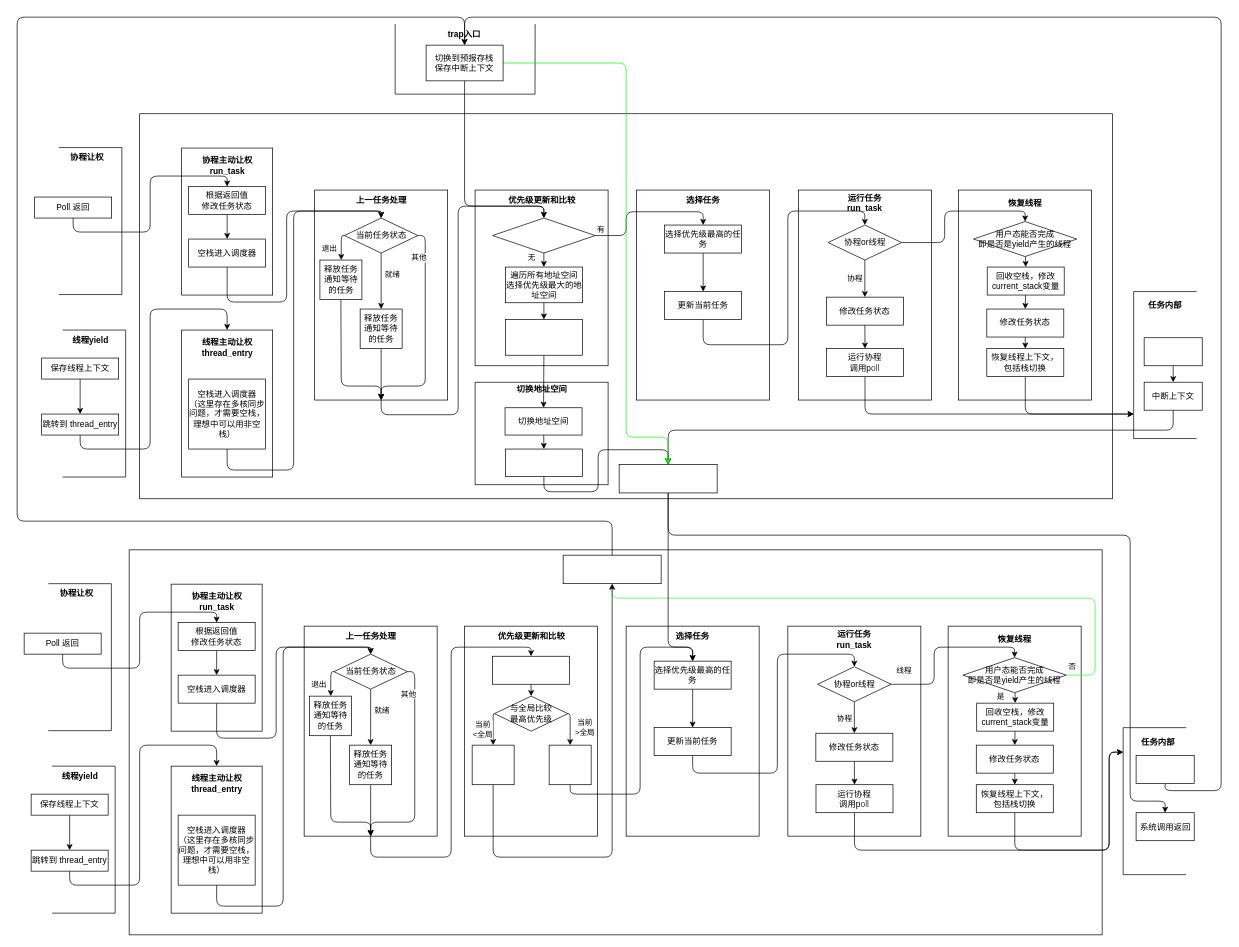
Image size: 1239x947. Some labels were removed from this diagram. Here are the shapes that lost their labels. From the top down, the box of each, then its label:
(492, 217, 595, 253): 内核是否有就绪任务 优先级或就绪队列
(505, 319, 582, 355): 更新全局最高优先级=max(地址空间最高优先级)
(1143, 337, 1202, 366): trap_handler处理结束
(505, 448, 582, 476): 构造中断上下文
(618, 464, 717, 493): into_user 接口
(562, 554, 661, 584): into_kernel接口
(492, 656, 570, 684): 更新当前最高优先级
(471, 744, 514, 785): 回收空栈
(548, 744, 591, 785): 更新全局优先级
(1135, 755, 1194, 784): 发起系统调用 ecall
